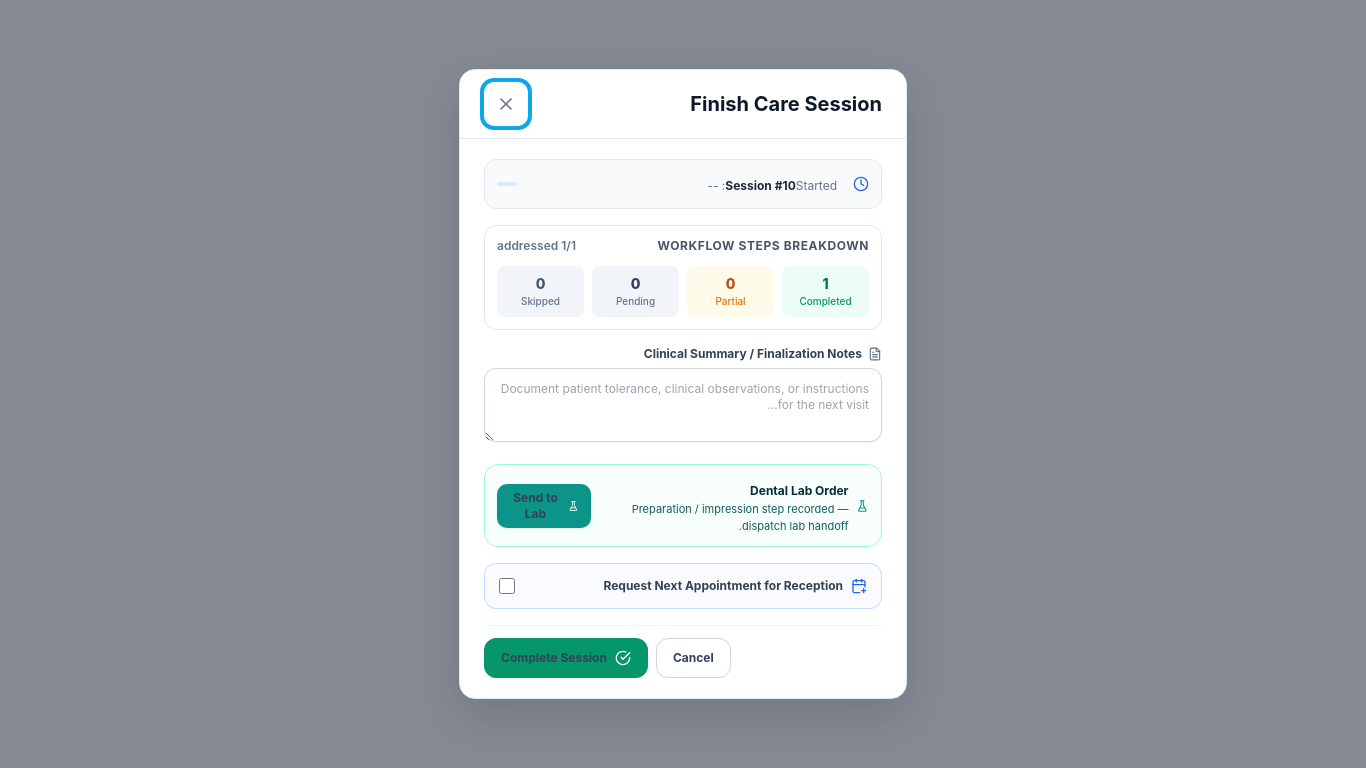
Test: Slice S28: 1-Tap Lab Handoff Sheet & Non-Duplicating Billing › G12-M05 & G12-M06: FinishCareSessionSheet Lab Handoff Trigger › opens LabHandoffSheet when clicking Send to Lab from FinishCareSessionSheet
Click the button with test id "open-lab-handoff-button".
click(544, 506)  # box [497,484,591,528]
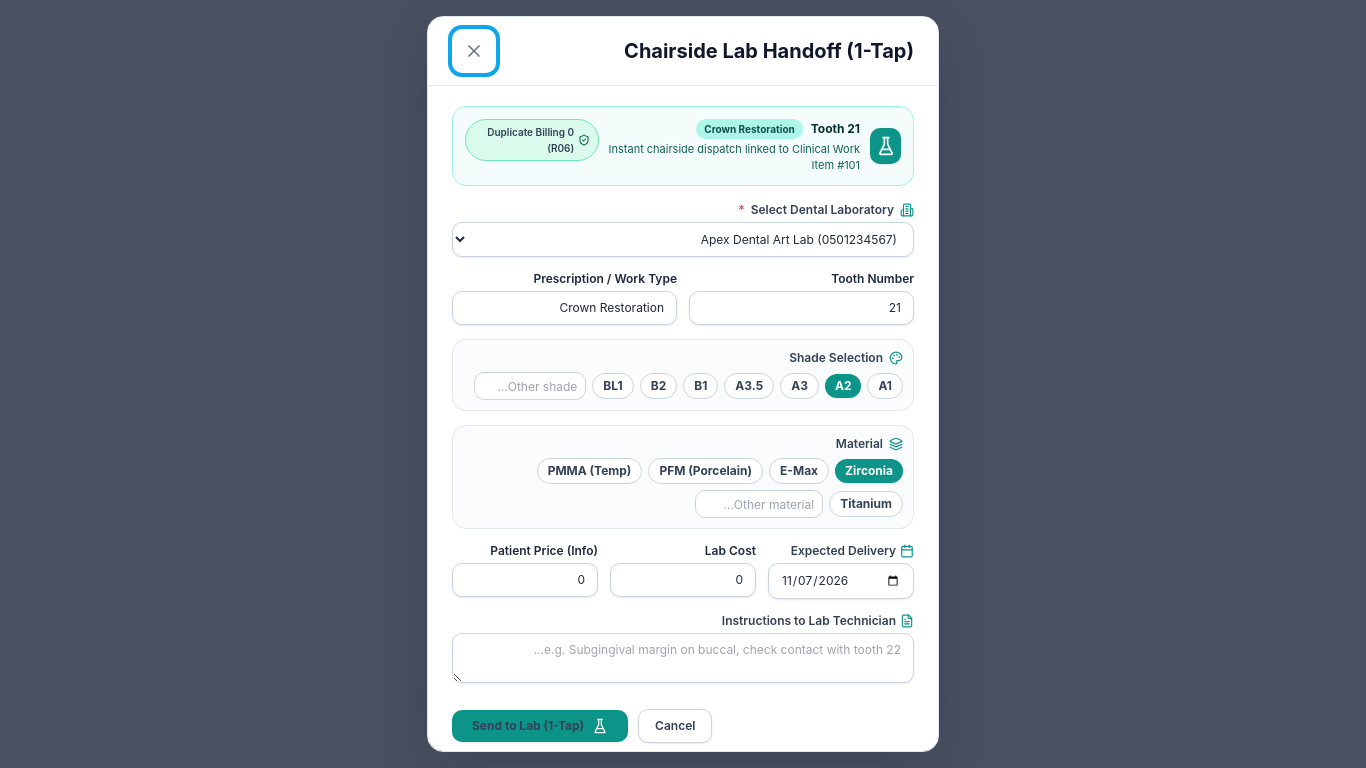
Check: the element with test id "lab-handoff-sheet" is shown, box [452,106,914,743]
